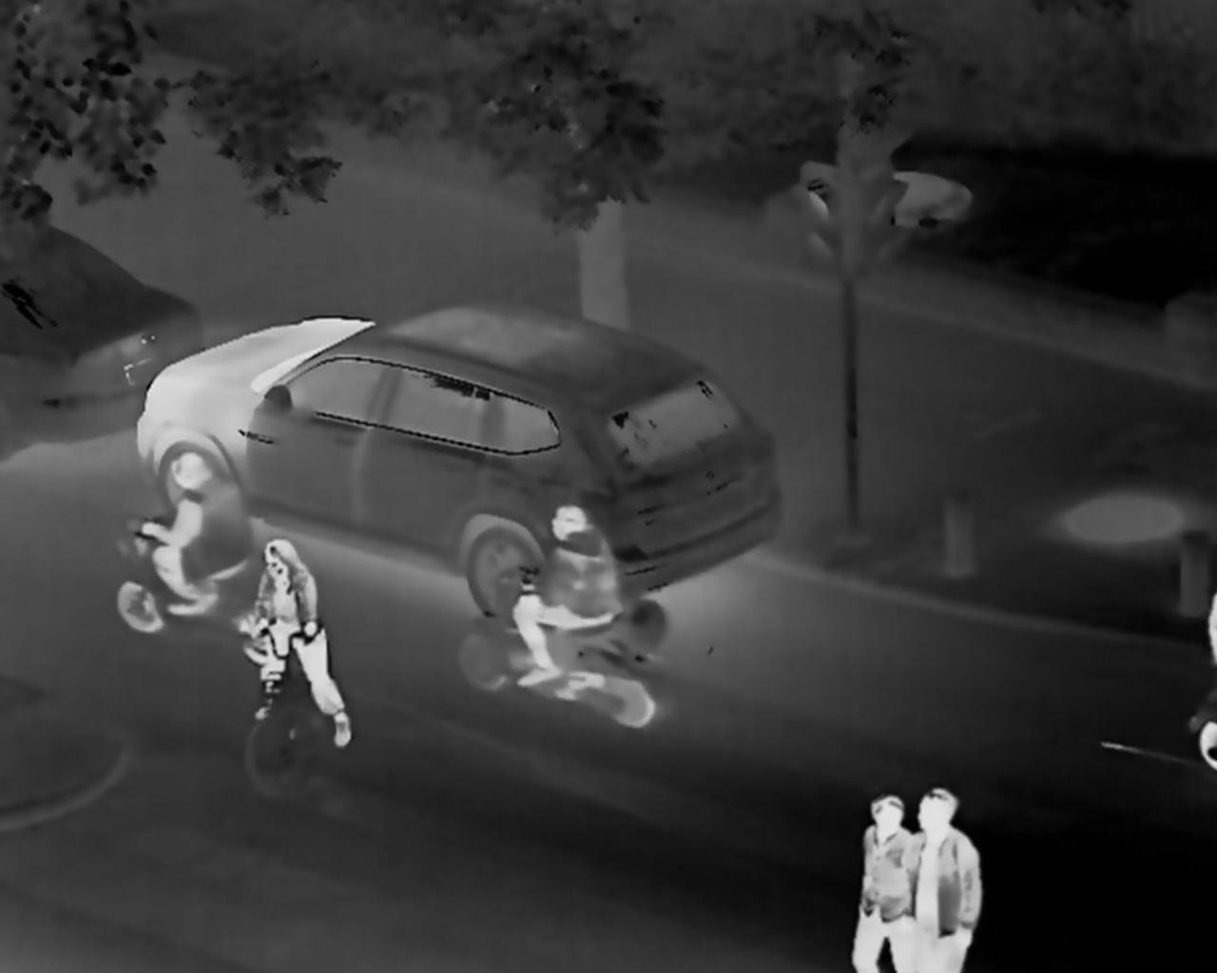person: (232, 536, 352, 746), (138, 443, 252, 623), (511, 504, 618, 691), (895, 774, 980, 973), (844, 786, 912, 973)
